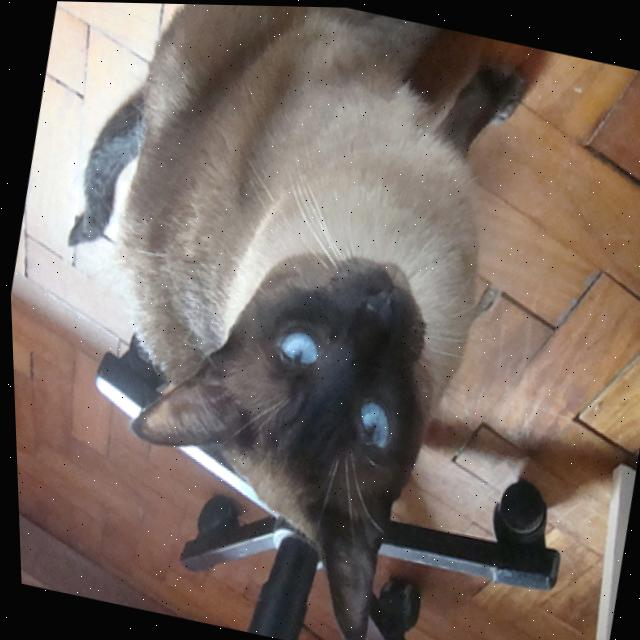Siamese: (0, 0, 555, 640)
